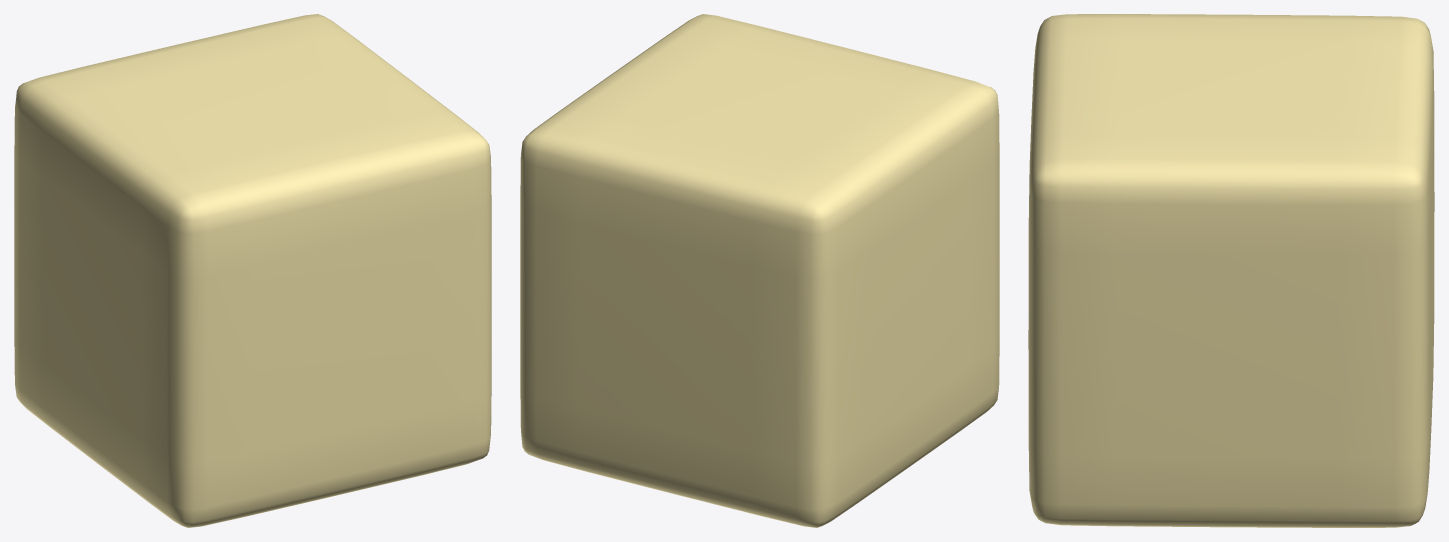
Rendered from PROP_Bucket_v0.glb.
3 views of the same model, side by side, from view 1: azimuth 30°, elevation 25°; view 2: azimuth 150°, elevation 25°; view 3: azimuth 270°, elevation 25° (orthographic). The views are drawn at different scales.
Visible parts, largest first — view 1: PROP_Bucket_v0; view 2: PROP_Bucket_v0; view 3: PROP_Bucket_v0.
Boxes of the visible parts, bbox=[...] form: PROP_Bucket_v0: bbox=[14, 14, 491, 527]; PROP_Bucket_v0: bbox=[520, 14, 999, 527]; PROP_Bucket_v0: bbox=[1028, 14, 1434, 527].
Bounding box in the file's own units: 1.01 × 0.9994 × 1.01.
